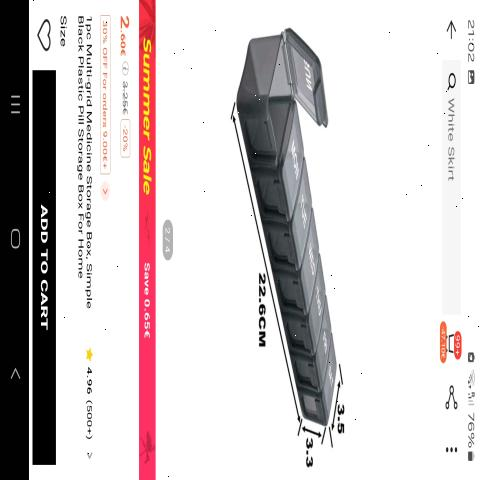PillBox: (217, 22, 365, 457)
